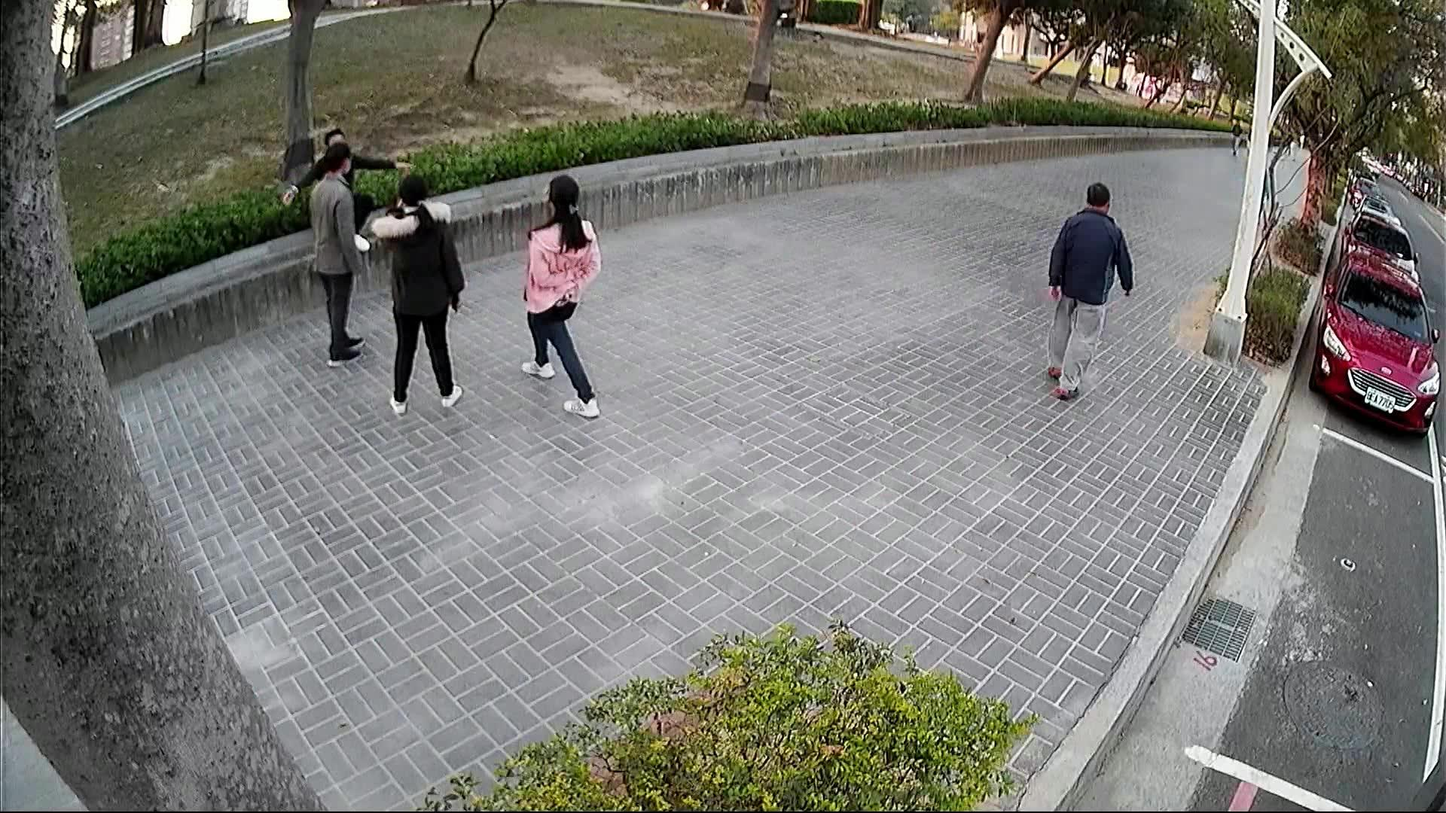person: (365, 169, 468, 417), (1033, 175, 1139, 410), (512, 165, 608, 422), (277, 123, 416, 254), (300, 137, 371, 369), (1228, 116, 1246, 156)
